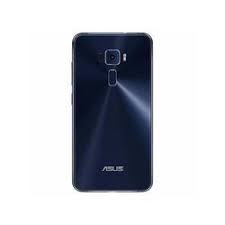asus: (67, 28, 155, 193)
